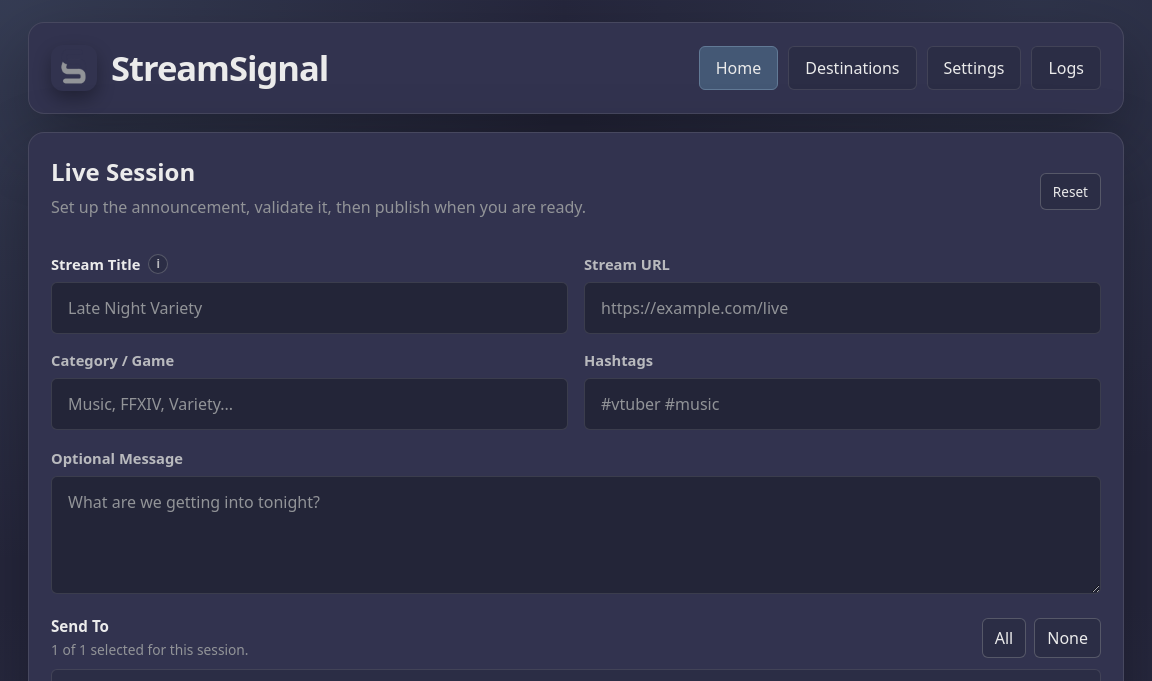
Test: App › hydrates platform-specific destination fields from config json
Click the button "Destinations" at (852, 68), box [788,46,917,90]
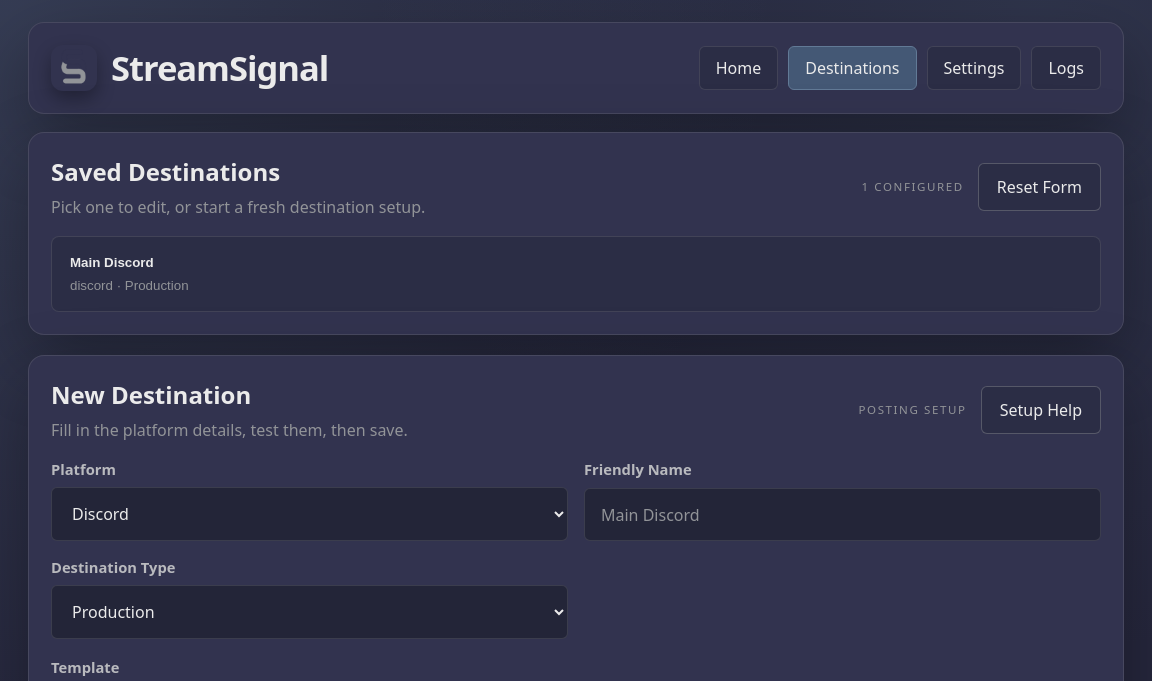
Click the button "Main Discord discord · Production" at (112, 262), box [51,236,1101,312]
(page scrolled)
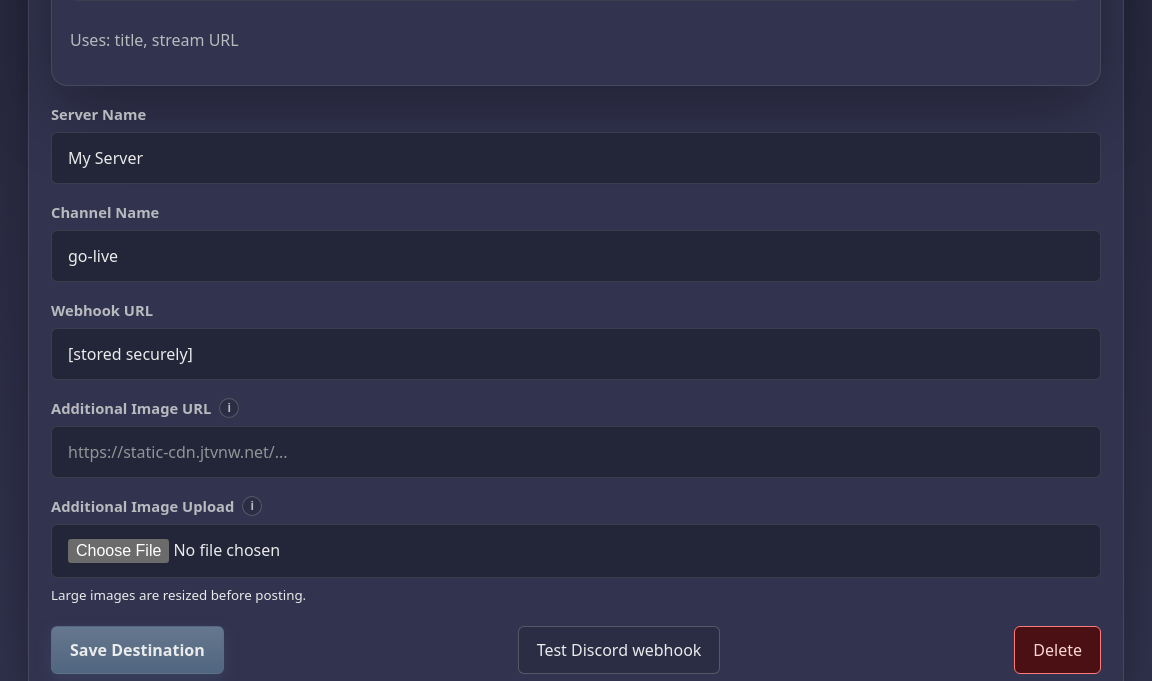
Expected: the field labelled "Server Name" holds "My Server", [51,132,1101,184]
Expected: the field labelled "Channel Name" holds "go-live", [51,230,1101,282]
Expected: the field labelled "Webhook URL" holds "[stored securely]", [51,328,1101,380]
